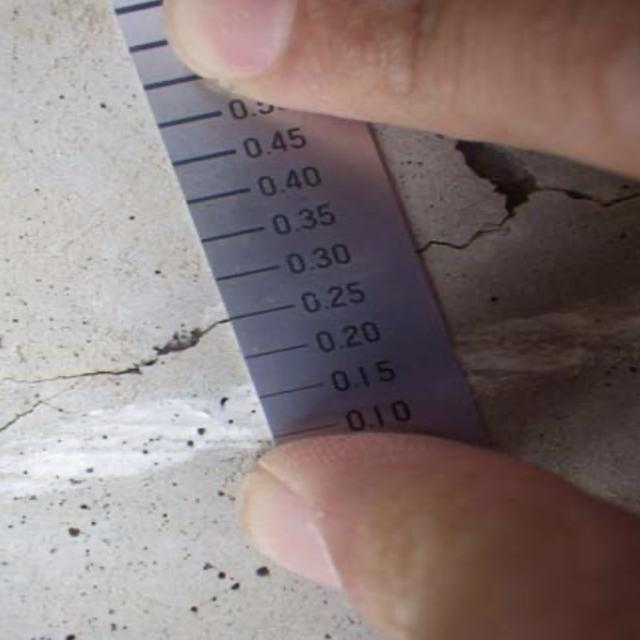crack: (403, 157, 640, 269), (6, 317, 223, 404)
